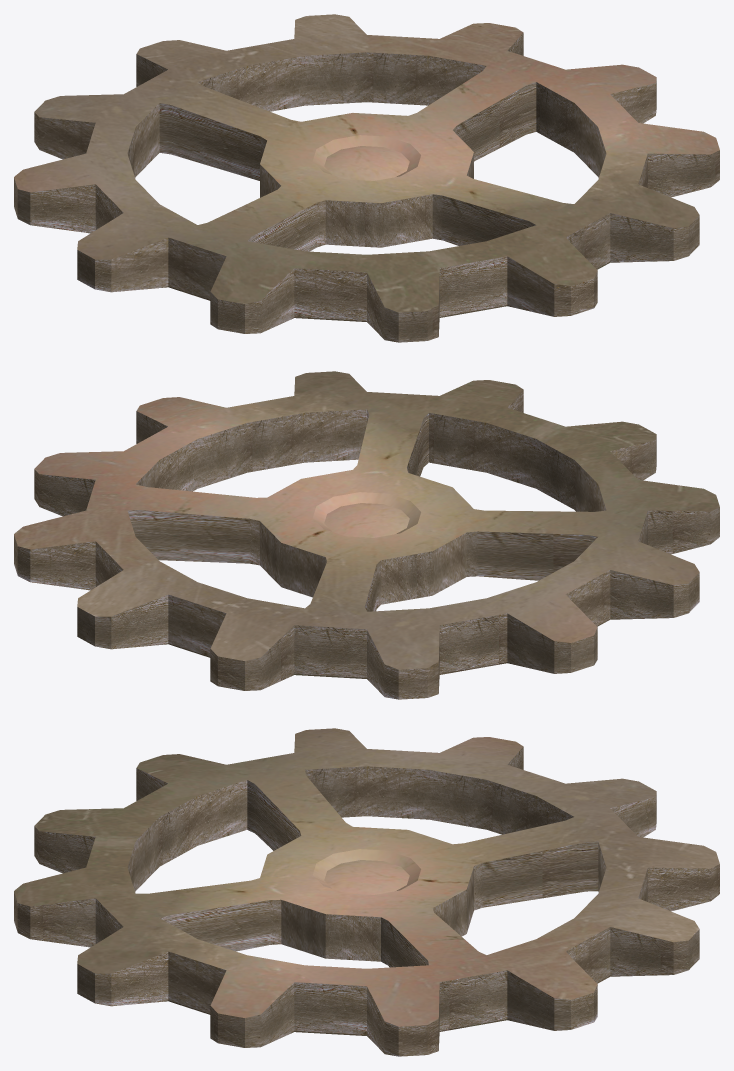
The model's file is cog1.FBX.
3 views of the same model, one above another, from view 1: azimuth 30°, elevation 25°; view 2: azimuth 150°, elevation 25°; view 3: azimuth 270°, elevation 25° (orthographic).
Parts seen in each view (by area): view 1: Cylinder002; view 2: Cylinder002; view 3: Cylinder002.
Boxes of the visible parts, x1,y1,x2,y2 form: Cylinder002: (14, 14, 719, 342); Cylinder002: (14, 371, 719, 699); Cylinder002: (14, 728, 719, 1056).
Bounding box in the file's own units: 33.03 × 2.57 × 33.03.
